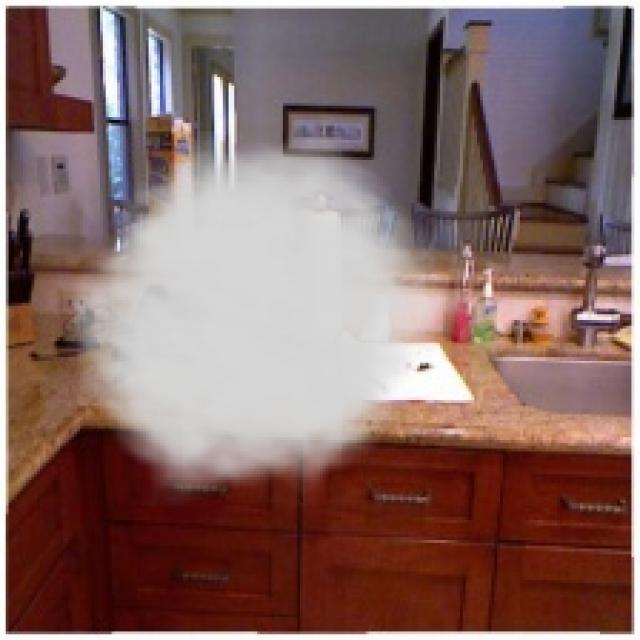smoke: (52, 132, 457, 508)
